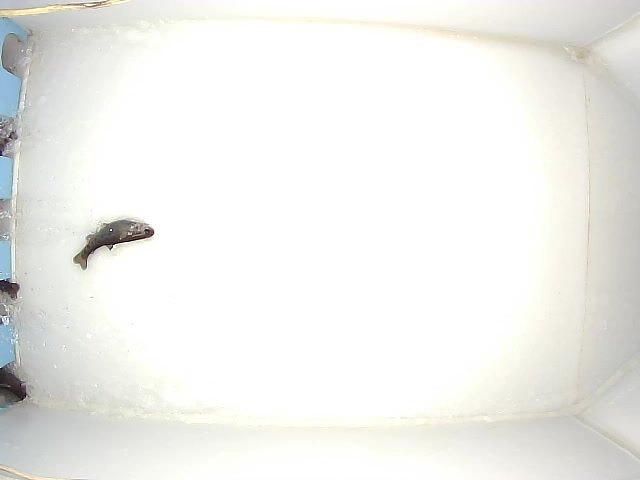fish: (71, 215, 155, 269)
